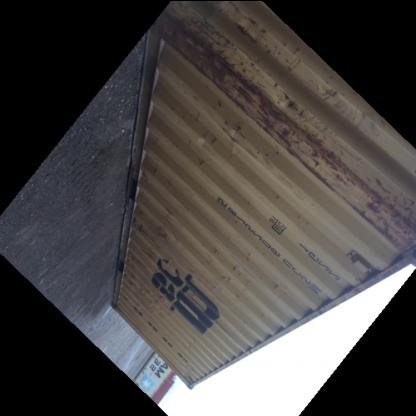Damage: (167, 13, 301, 118), (274, 122, 352, 186), (359, 174, 414, 244), (197, 121, 270, 167), (132, 206, 180, 268), (345, 245, 385, 275)
